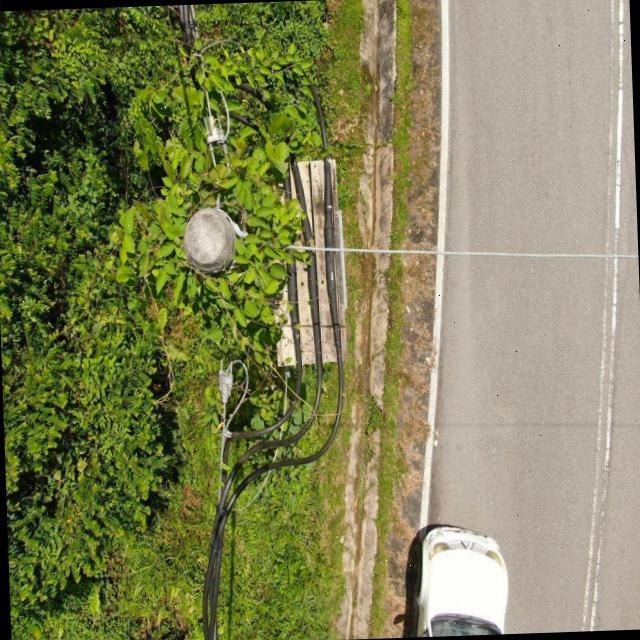critical vegetation: (106, 64, 322, 374)
